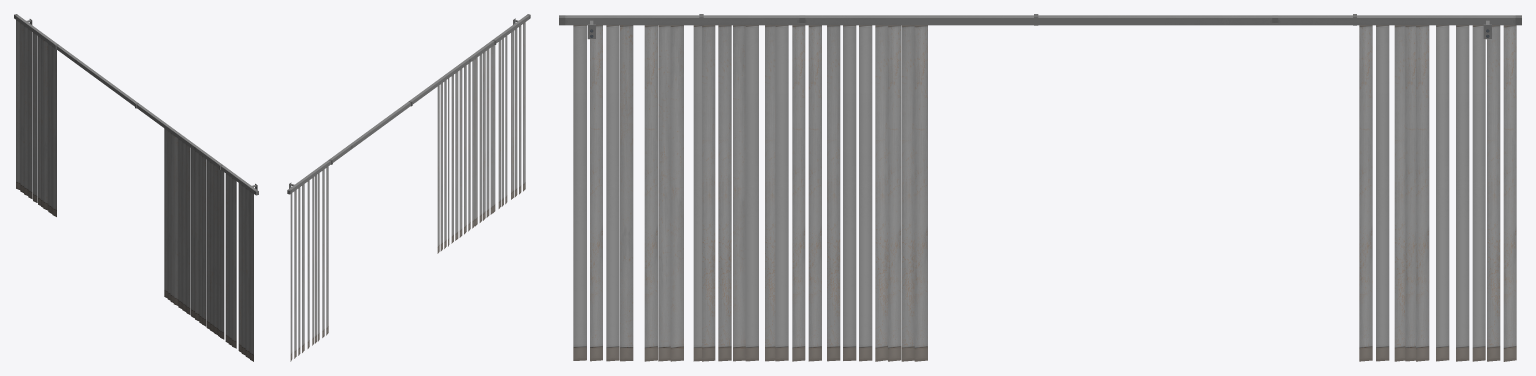
File: HH_Window_Blind_8m_01.fbx
The picture shows the model from 3 angles, left to right: view 1: azimuth 30°, elevation 25°; view 2: azimuth 150°, elevation 25°; view 3: azimuth 270°, elevation 25°; orthographic projection. The views are drawn at different scales.
Visible parts, largest first — view 1: HH_Window_Blind_8m_01; view 2: HH_Window_Blind_8m_01; view 3: HH_Window_Blind_8m_01.
Part boxes in pixels (x1,y1,x2,y2): HH_Window_Blind_8m_01: (14, 14, 258, 361); HH_Window_Blind_8m_01: (287, 14, 530, 361); HH_Window_Blind_8m_01: (559, 14, 1521, 361).
Size of the model in its own units: 14.84 by 263 by 666.
